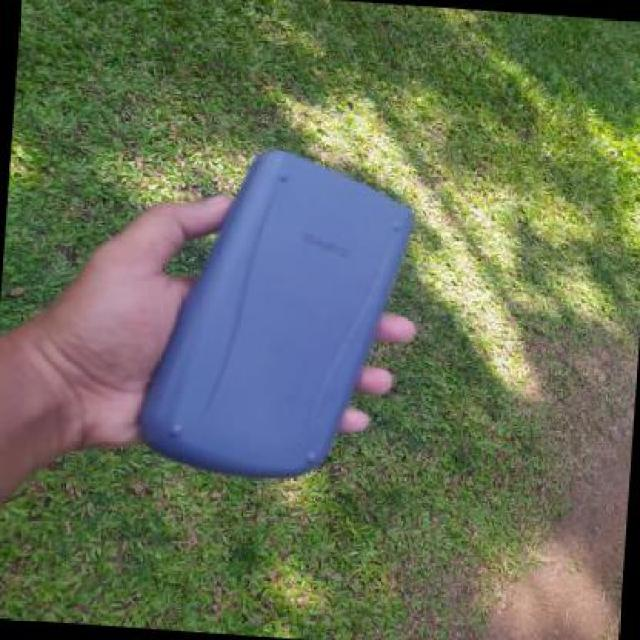Calculator: (126, 136, 434, 502)
